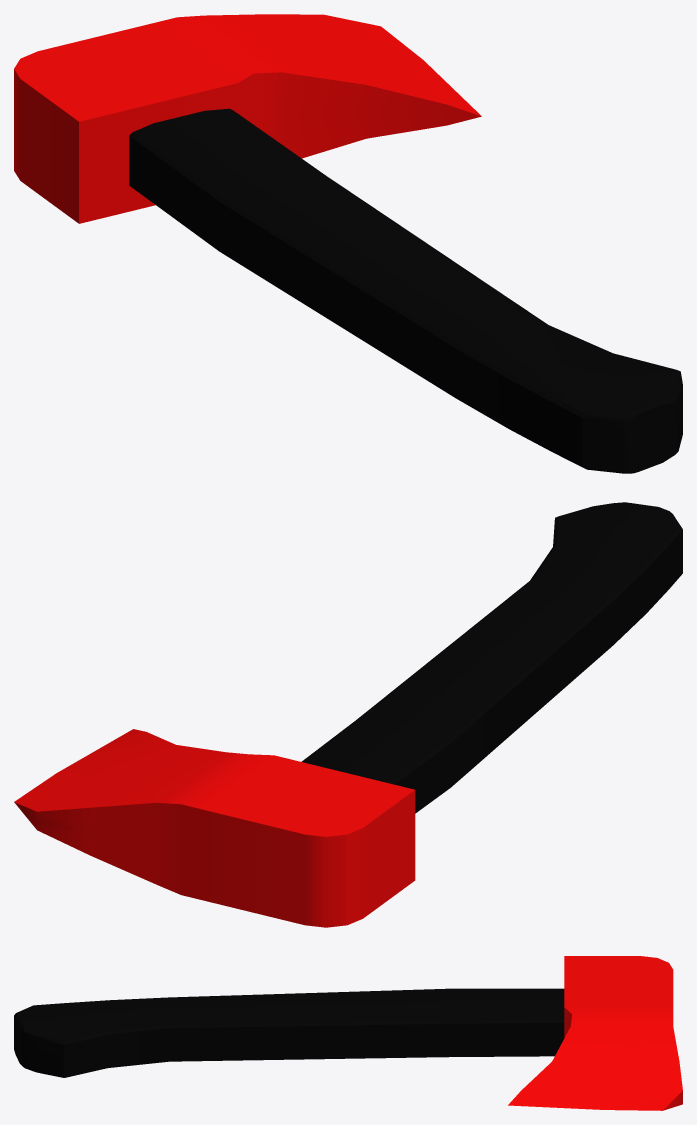
File: Axe_09.fbx
3 renders of one model, top to bottom at view 1: azimuth 30°, elevation 25°; view 2: azimuth 150°, elevation 25°; view 3: azimuth 270°, elevation 25°, orthographic. The views are drawn at different scales.
Parts seen in each view (by area): view 1: Axe_09; view 2: Axe_09; view 3: Axe_09.
Part boxes in pixels (bbox=[...]): Axe_09: bbox=[14, 14, 682, 473]; Axe_09: bbox=[14, 502, 682, 927]; Axe_09: bbox=[14, 956, 682, 1110].
Size of the model in its own units: 3.86 by 1 by 9.01.
